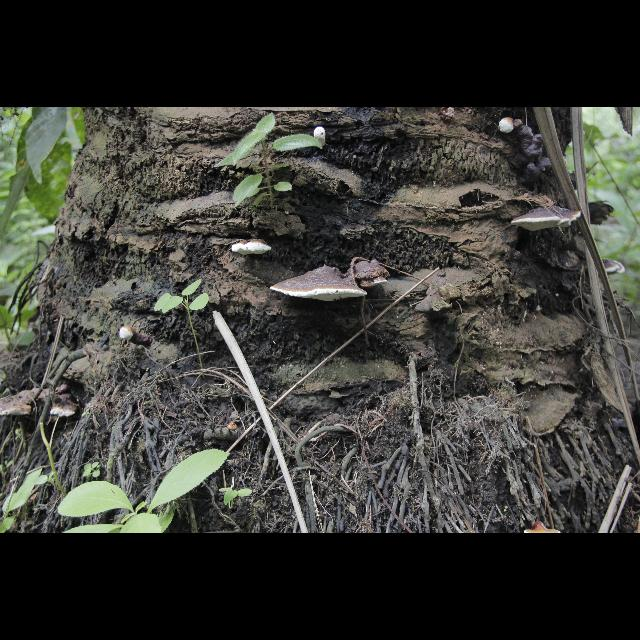ganoderma: (270, 265, 368, 303), (517, 120, 554, 185), (512, 206, 583, 232), (1, 389, 49, 417), (350, 261, 391, 289), (51, 394, 81, 419), (233, 240, 274, 257), (524, 522, 563, 534), (604, 258, 627, 276)
primordium: (120, 327, 137, 344), (499, 118, 515, 135), (314, 127, 327, 147)
